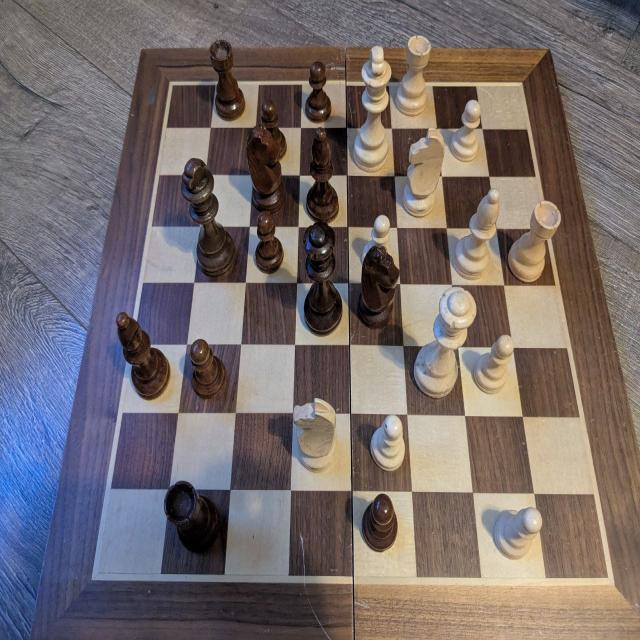black_bishop: (116, 312, 170, 399), (307, 126, 339, 222)
black_king: (179, 157, 236, 278)
black_knight: (358, 234, 399, 327), (247, 116, 286, 212)
black_pawn: (189, 338, 228, 401), (361, 492, 400, 552), (255, 209, 285, 274), (258, 99, 286, 160), (304, 60, 330, 123)
black_queen: (304, 222, 342, 333)
black_rook: (164, 480, 222, 552), (208, 40, 244, 121)
white_bishop: (453, 188, 499, 278)
white_king: (354, 45, 391, 170)
white_knight: (404, 129, 444, 217), (294, 396, 338, 473)
white_pawn: (496, 505, 542, 560), (473, 335, 515, 394), (370, 414, 406, 474), (450, 100, 481, 164), (363, 215, 391, 266)
white_queen: (412, 286, 476, 395)
white_rook: (507, 200, 561, 282), (394, 36, 430, 116)
